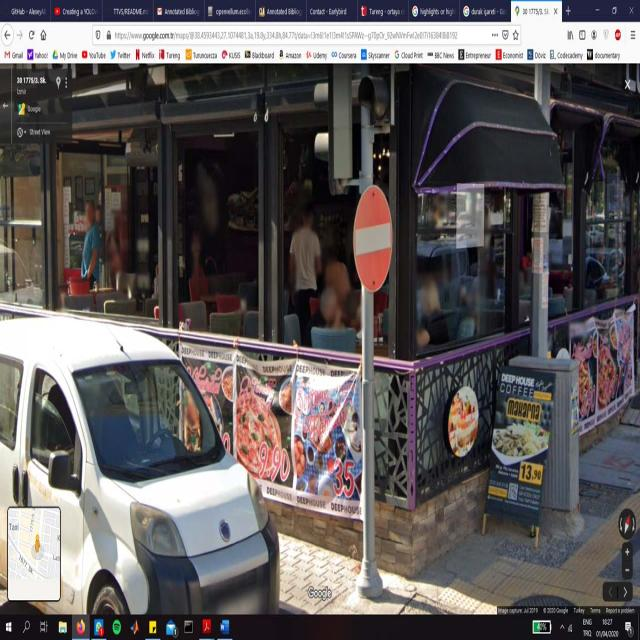girisyok: (352, 186, 394, 290)
